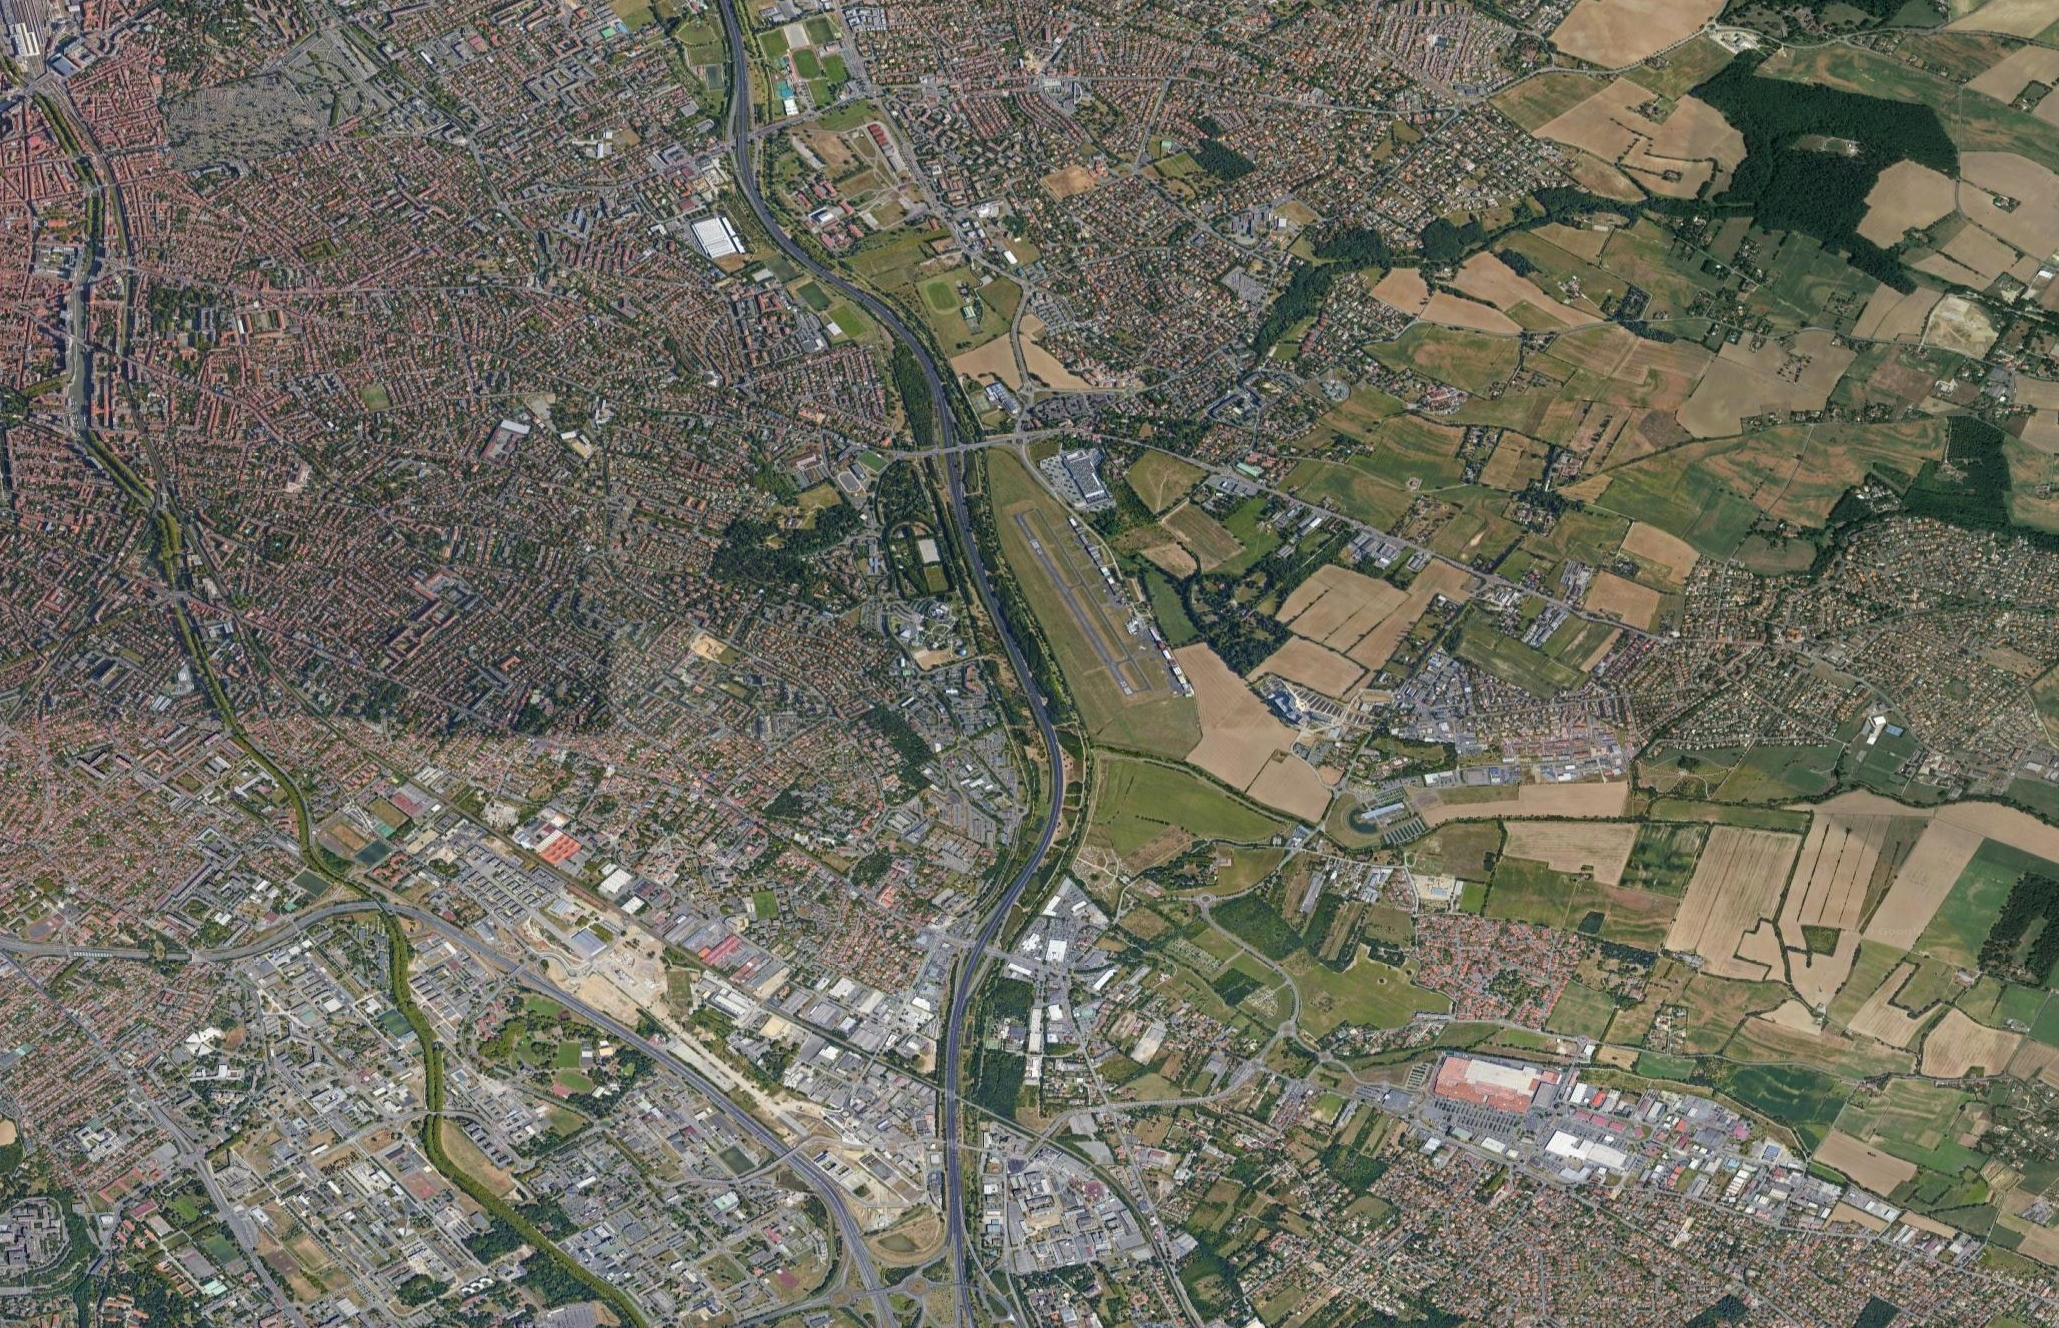airport: (1013, 503, 1196, 702)
motorway: (681, 1065, 834, 1202), (425, 912, 570, 999), (558, 990, 684, 1079), (780, 237, 900, 324), (975, 569, 1045, 708), (831, 1188, 897, 1328), (893, 320, 959, 452), (968, 861, 1046, 956), (732, 111, 786, 245), (174, 911, 311, 963), (945, 954, 981, 1152), (941, 1145, 978, 1328), (1026, 698, 1063, 861), (2, 935, 174, 963), (942, 449, 981, 569), (717, 2, 750, 116), (305, 905, 429, 923)
